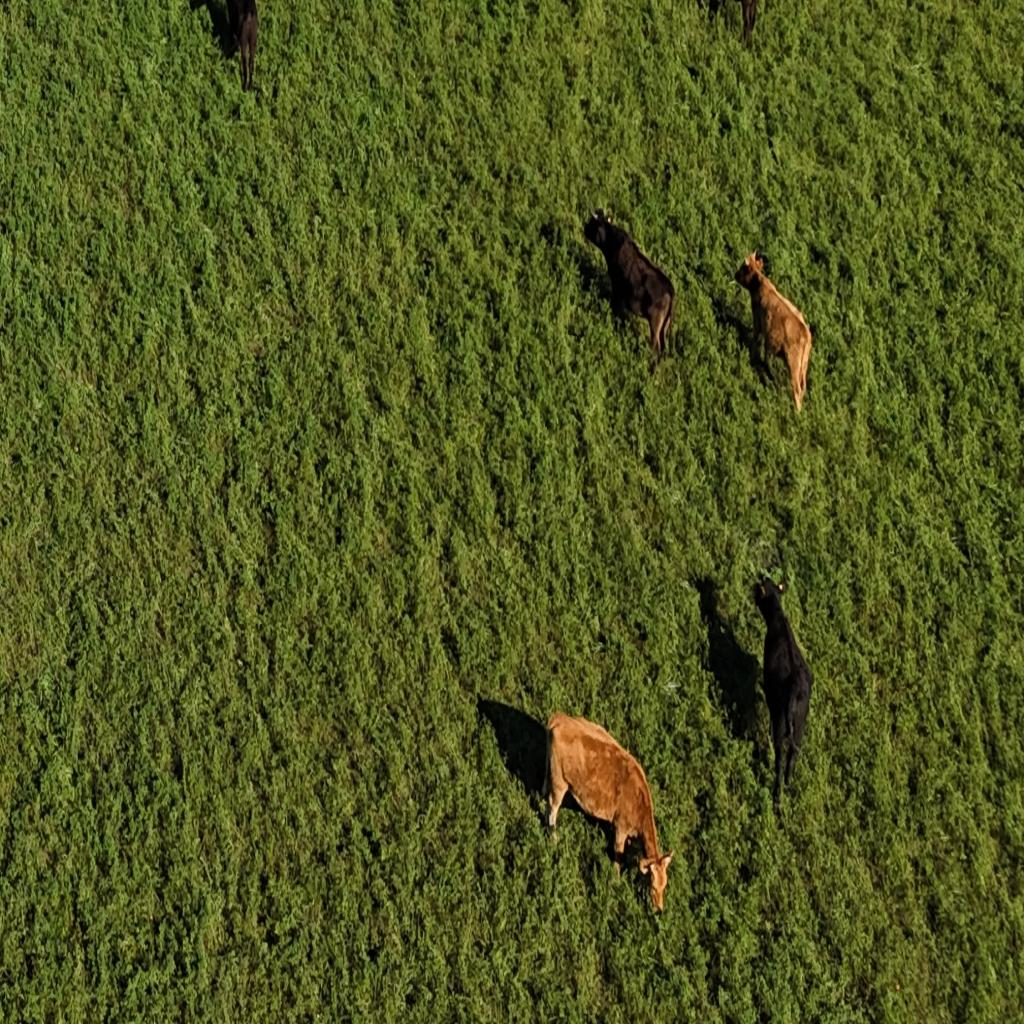cow: (540, 706, 678, 909), (582, 206, 678, 366), (754, 574, 816, 812), (735, 253, 814, 415), (225, 2, 260, 94), (709, 0, 766, 46), (743, 0, 759, 30)
